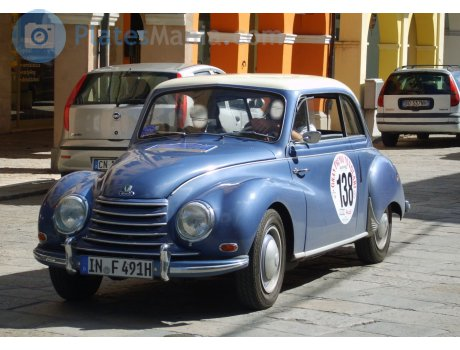License Plates: (91, 256, 149, 275)
